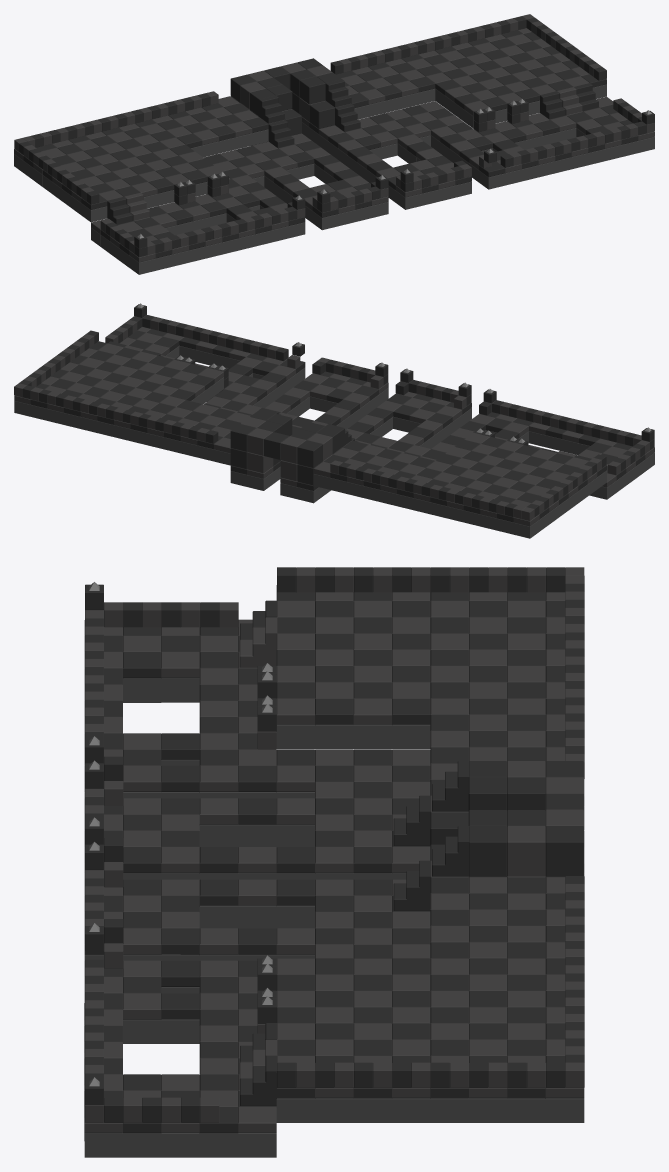
File: Floors.fbx
The picture shows the model from 3 angles, top to bottom: view 1: azimuth 30°, elevation 25°; view 2: azimuth 150°, elevation 25°; view 3: azimuth 270°, elevation 25°; orthographic projection. The views are drawn at different scales.
Visible parts, largest first — view 1: BlockL01__7_, BlockL01__9_, Floor01__82_, Steps01__1_, Steps01__3_, Steps01D, Steps01__5_, Steps01__8_, Steps01__6_, Floor01__64_, Floor02__186_, Floor02__55_ (+26 smaller); view 2: BlockL01__13_, Floor02__180_, Floor02__173_, BlockL01__14_, BlockL02__12_, Floor01__21_, Floor02__24_, BlockL01__18_, BlockL02__13_, BlockL02__3_, Floor01__171_, Floor02__171_ (+9 smaller); view 3: Floor01__78_, Floor02__93_, Floor01__108_, Floor01__37_, Floor01D, Floor02__16_, Floor01__26_, Floor02__45_, Floor02__11_, BlockL02__11_, BlockL01__16_, Floor02__63_ (+47 smaller).
Boxes of the visible parts, box(x1,y1,x2,y2) form: BlockL01__7_: box(309, 101, 334, 128); BlockL01__9_: box(300, 76, 325, 104); Floor01__82_: box(479, 161, 505, 189); Steps01__1_: box(325, 79, 351, 107); Steps01__3_: box(268, 120, 294, 147); Steps01D: box(335, 103, 360, 131); Steps01__5_: box(540, 91, 565, 119); Steps01__8_: box(259, 95, 284, 123); Steps01__6_: box(107, 197, 132, 224); Floor01__64_: box(81, 195, 107, 222); Floor02__186_: box(129, 250, 155, 274); Floor02__55_: box(395, 185, 421, 209); BlockL01__13_: box(297, 440, 322, 467); Floor02__180_: box(513, 514, 539, 538); Floor02__173_: box(247, 467, 273, 490); BlockL01__14_: box(230, 424, 256, 451); BlockL02__12_: box(280, 436, 306, 463); Floor01__21_: box(393, 404, 418, 432); Floor02__24_: box(310, 384, 335, 412); BlockL01__18_: box(264, 432, 289, 459); BlockL02__13_: box(247, 428, 272, 455); BlockL02__3_: box(247, 452, 273, 473); Floor01__171_: box(297, 482, 323, 503); Floor02__171_: box(313, 461, 330, 489); Floor01__78_: box(315, 698, 353, 749); Floor02__93_: box(353, 698, 391, 749); Floor01__108_: box(392, 698, 430, 749); Floor01__37_: box(199, 879, 238, 928); Floor01D: box(123, 652, 161, 702); Floor02__16_: box(161, 652, 199, 702); Floor01__26_: box(161, 993, 199, 1043); Floor02__45_: box(238, 1107, 276, 1157); Floor02__11_: box(123, 993, 161, 1043); BlockL02__11_: box(507, 826, 545, 876); BlockL01__16_: box(469, 826, 507, 876); Floor02__63_: box(277, 698, 314, 749).
Bounding box in the file's own units: 6203 × 600 × 2602.
